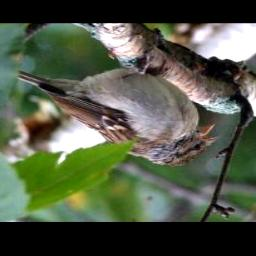Sparrow: (16, 50, 225, 168)
